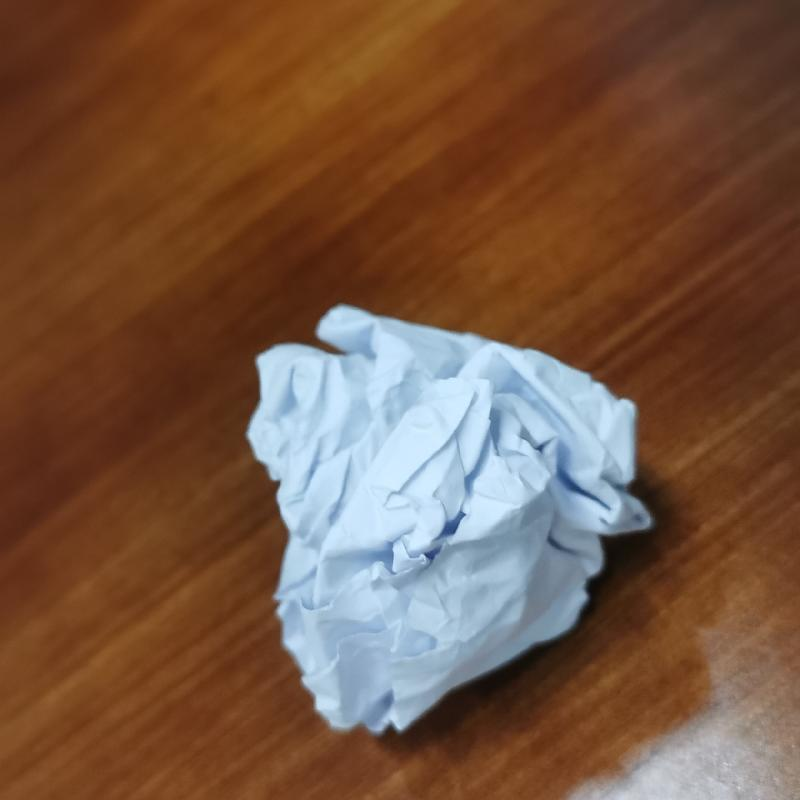spitball: (242, 298, 661, 741)
